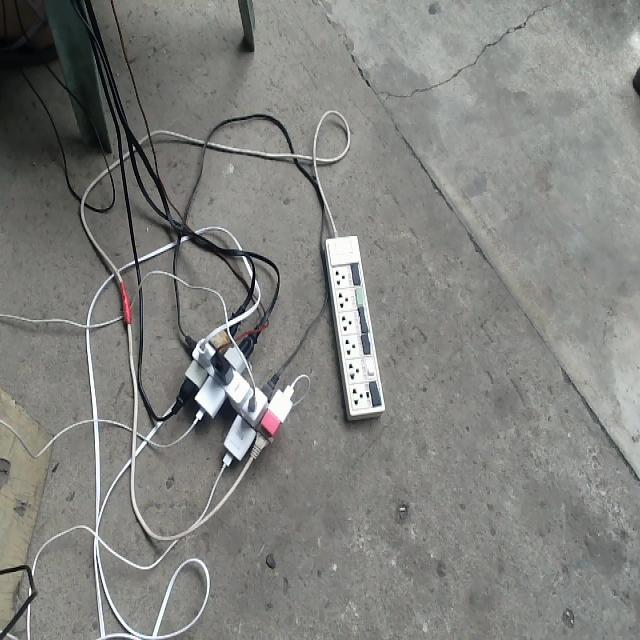-: (169, 308, 295, 469)
